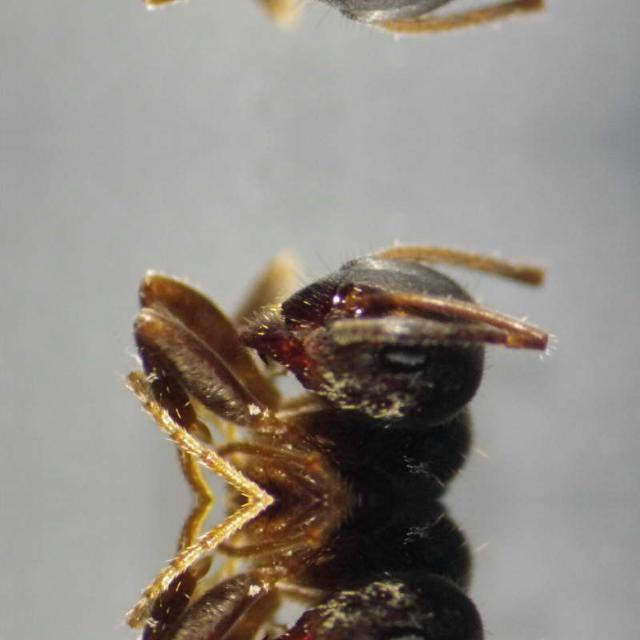Lasius: (105, 207, 567, 499), (105, 500, 567, 640), (105, 0, 567, 70)
